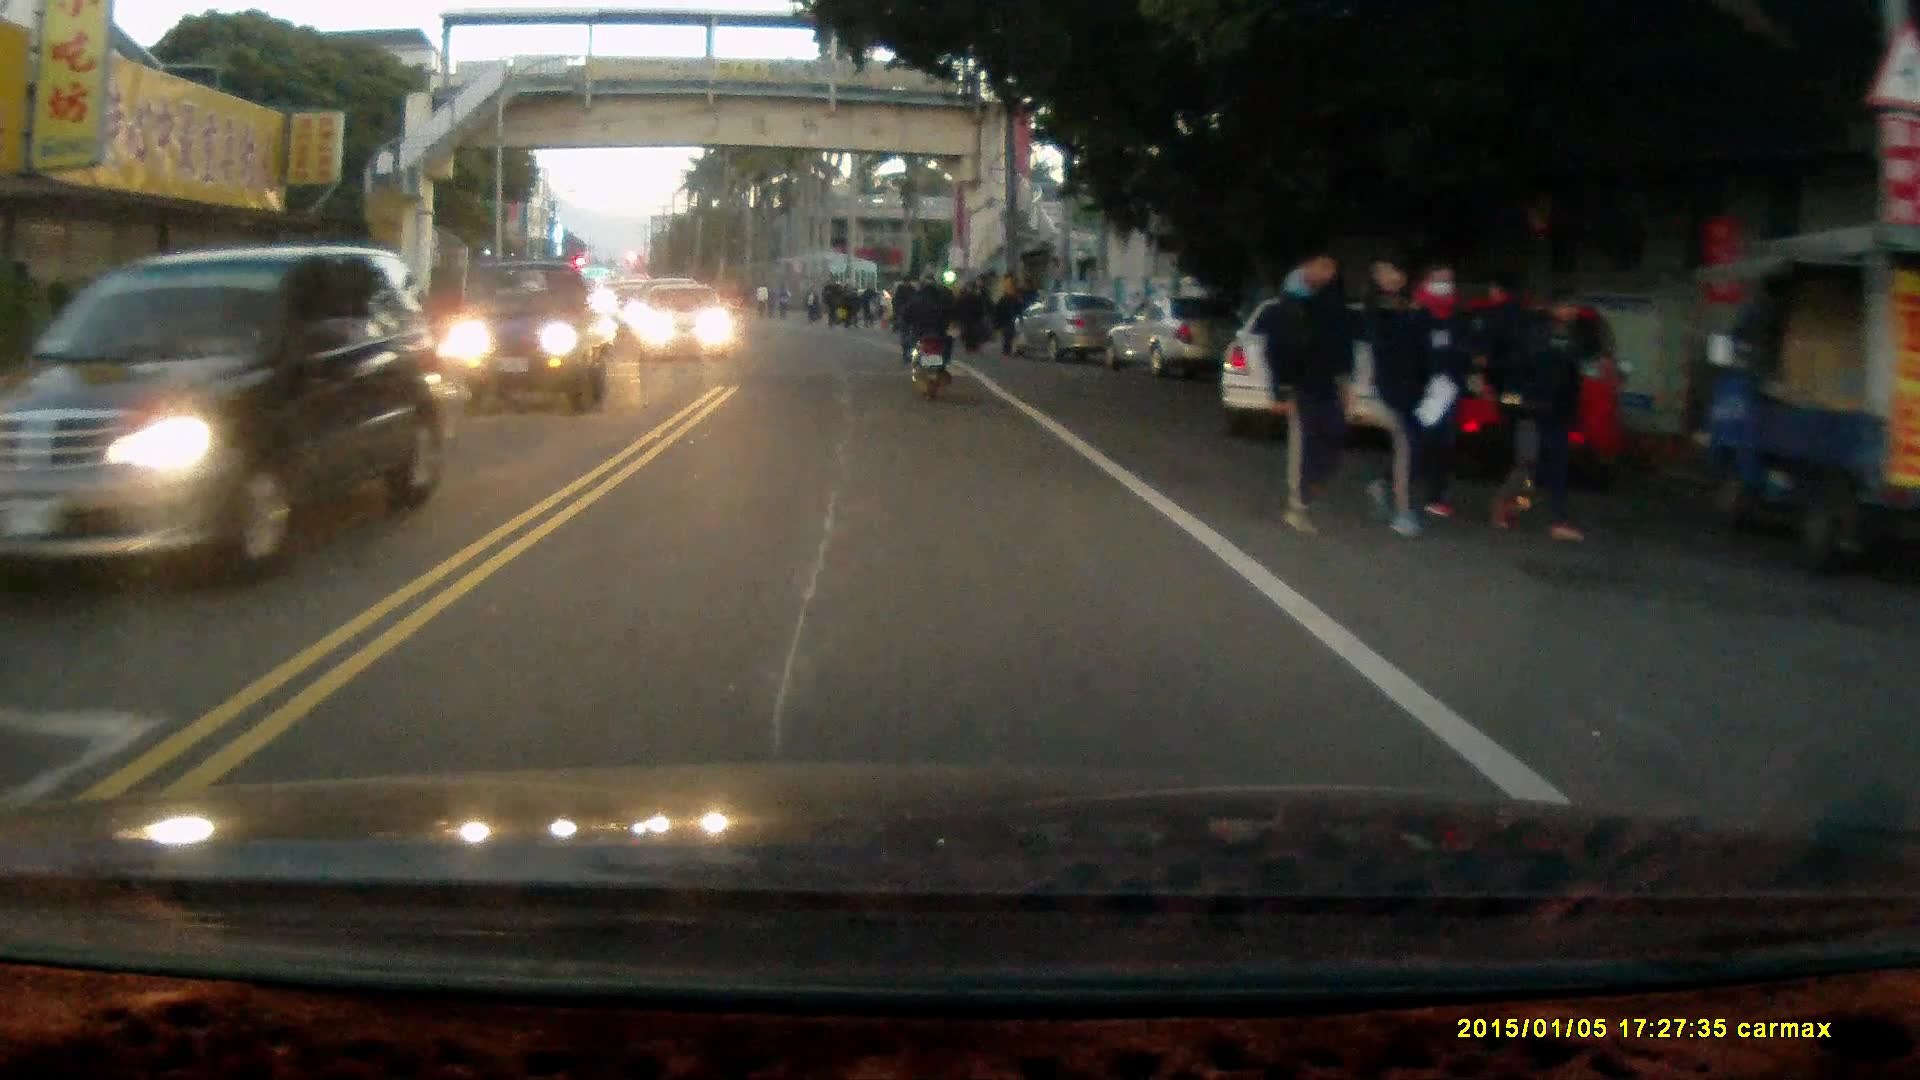pedestrian: (1258, 235, 1359, 541), (1359, 250, 1450, 542), (1509, 284, 1591, 546), (1399, 259, 1482, 517), (1470, 273, 1556, 519), (964, 269, 993, 352), (992, 281, 1020, 351), (956, 276, 981, 354)
rider: (889, 267, 956, 400)
vehicle: (11, 246, 433, 596), (1377, 286, 1634, 491), (1217, 286, 1436, 437), (452, 264, 613, 413), (1110, 288, 1233, 376), (1010, 291, 1134, 361), (638, 283, 736, 362)
